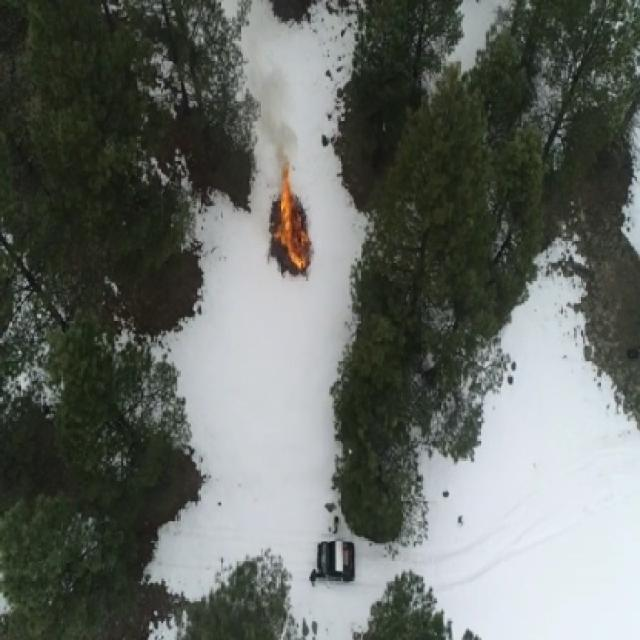Fire: (270, 158, 312, 274)
